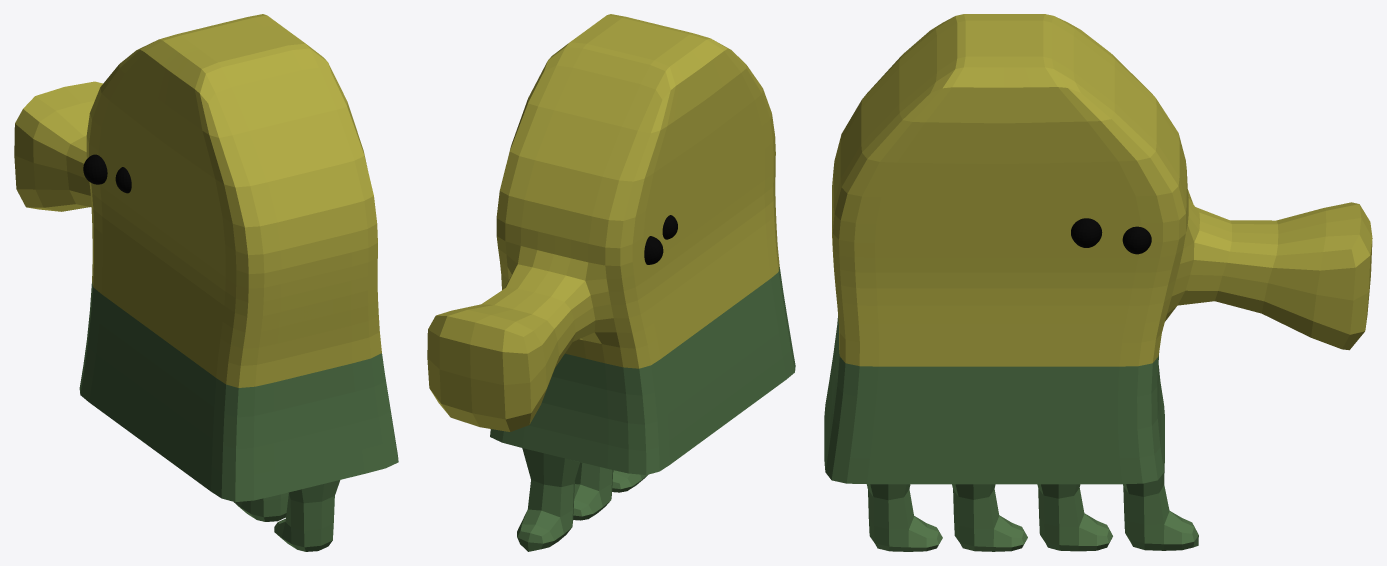
File: Doodle02.fbx
3 views of the same model, side by side, from view 1: azimuth 30°, elevation 25°; view 2: azimuth 150°, elevation 25°; view 3: azimuth 270°, elevation 25° (orthographic). The views are drawn at different scales.
Visible parts, largest first — view 1: DoodleGuy; view 2: DoodleGuy; view 3: DoodleGuy.
Part boxes in pixels (x1,y1,x2,y2): DoodleGuy: (14, 14, 398, 551); DoodleGuy: (427, 14, 795, 551); DoodleGuy: (824, 14, 1372, 551).
Size of the model in its own units: 162 by 411 by 411.
